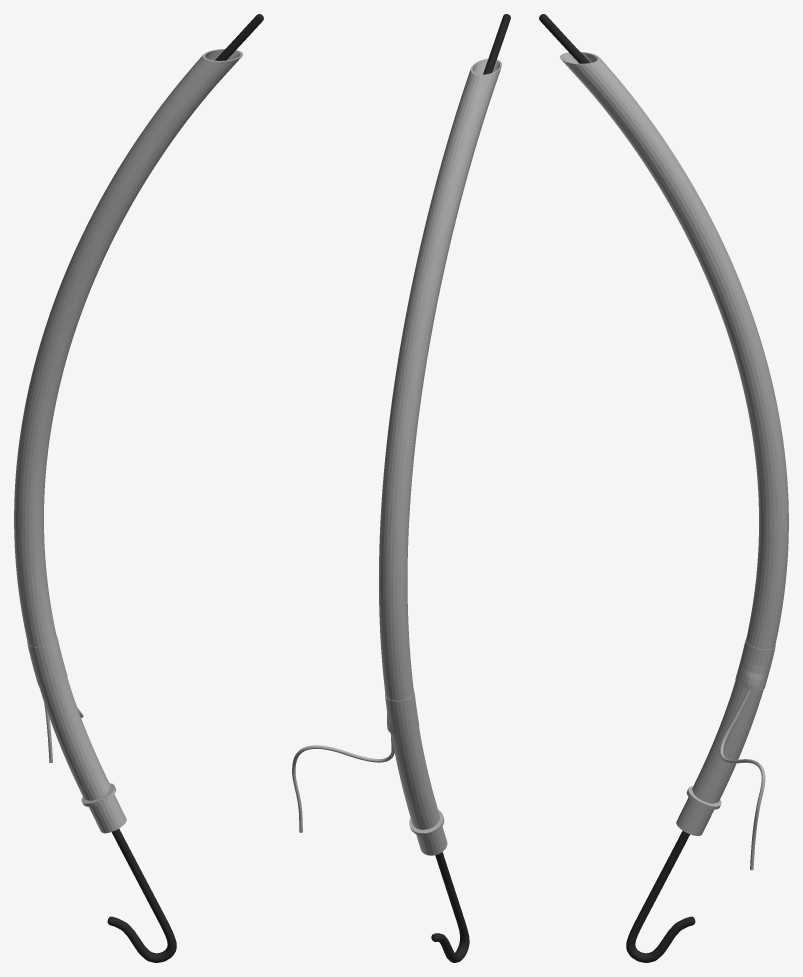
File: 導管家鐵絲動畫.fbx
The picture shows the model from 3 angles, left to right: view 1: azimuth 90°, elevation 25°; view 2: azimuth 150°, elevation 25°; view 3: azimuth 270°, elevation 25°; orthographic projection. The views are drawn at different scales.
Visible parts, largest first — view 1: NurbsPath_002_4_0, NurbsPath_003_24_0; view 2: NurbsPath_002_4_0, NurbsPath_003_24_0; view 3: NurbsPath_002_4_0, NurbsPath_003_24_0.
Boxes of the visible parts, <box> form: NurbsPath_002_4_0: <box>14,49,243,833</box>; NurbsPath_003_24_0: <box>107,14,263,962</box>; NurbsPath_002_4_0: <box>292,59,501,855</box>; NurbsPath_003_24_0: <box>431,14,510,962</box>; NurbsPath_002_4_0: <box>560,52,788,870</box>; NurbsPath_003_24_0: <box>539,14,695,962</box>.
Size of the model in its own units: 4.32 by 30.37 by 7.25.
